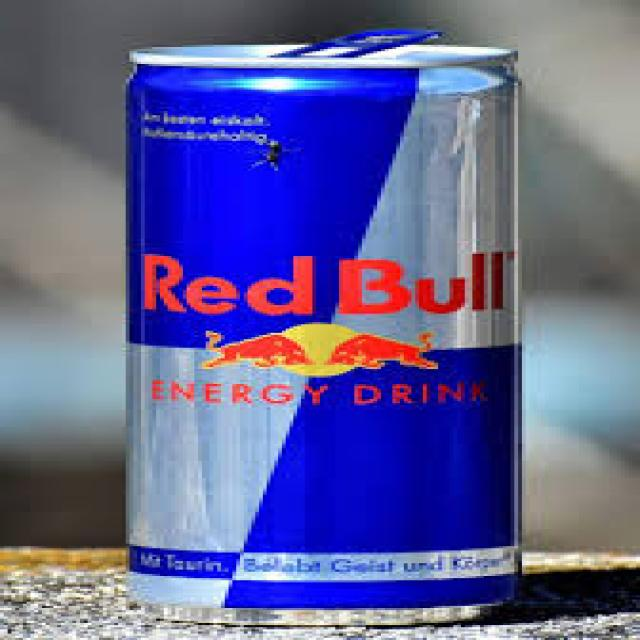red-bull: (110, 39, 521, 624)
